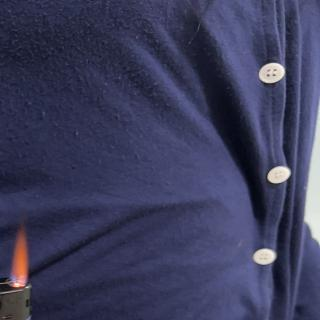fire: (11, 224, 30, 286)
